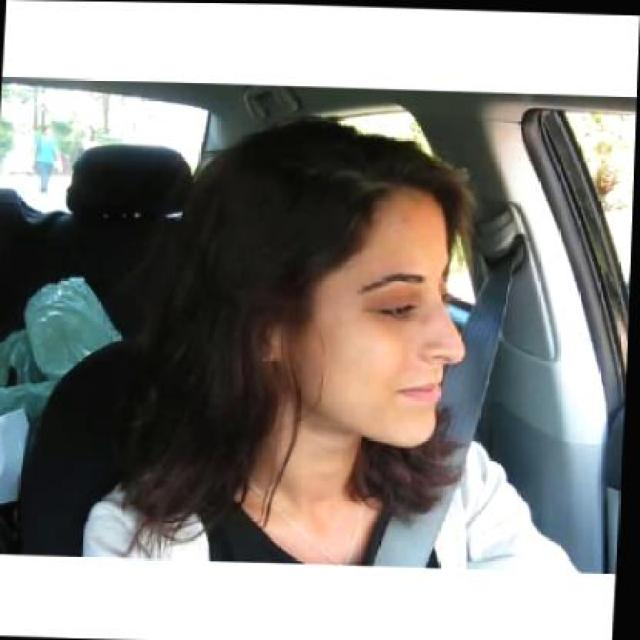attentif: (245, 112, 480, 450)
